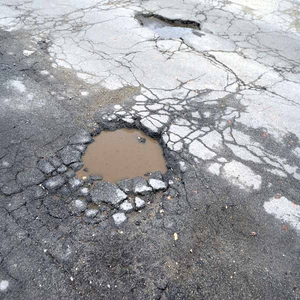pothole: (75, 120, 173, 206), (136, 11, 200, 44)
